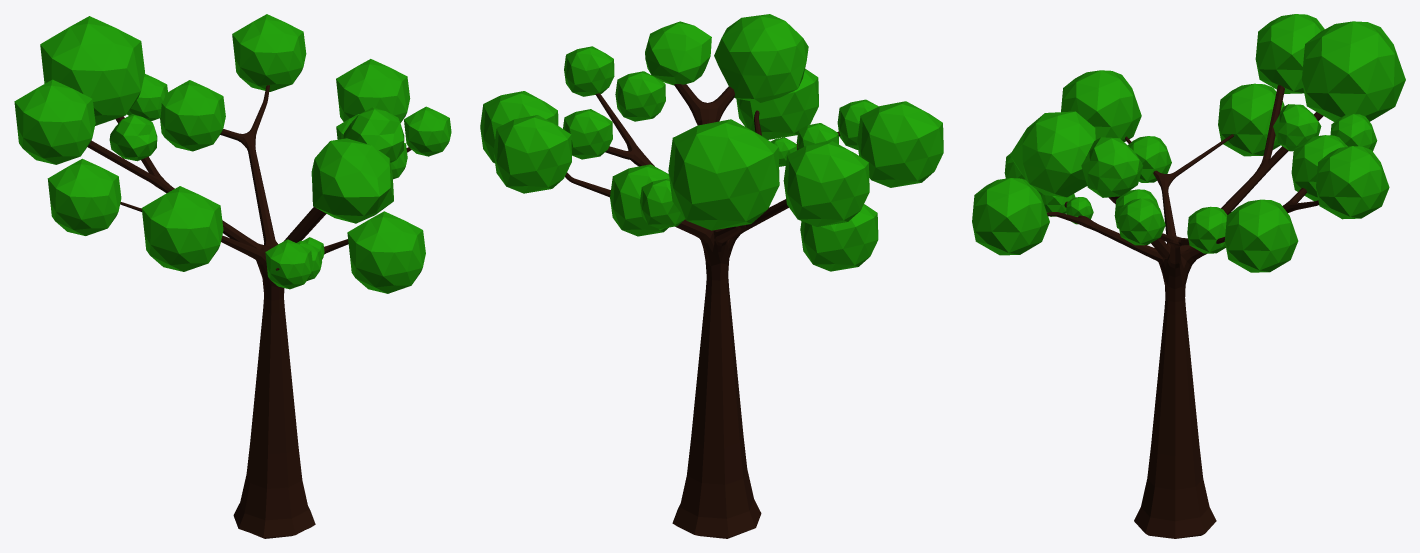
File: arvore_gigante.fbx
3 renders of one model, left to right at view 1: azimuth 30°, elevation 25°; view 2: azimuth 150°, elevation 25°; view 3: azimuth 270°, elevation 25°, orthographic. The views are drawn at different scales.
Parts seen in each view (by area): view 1: Esfera icosaédrica.001; view 2: Esfera icosaédrica.001; view 3: Esfera icosaédrica.001.
Part boxes in pixels (<box>): Esfera icosaédrica.001: <box>14,14,451,538</box>; Esfera icosaédrica.001: <box>480,14,943,538</box>; Esfera icosaédrica.001: <box>972,14,1405,538</box>.
Bounding box in the file's own units: 1778 × 2106 × 1811.
Materials: 1 (1 with a texture image).
